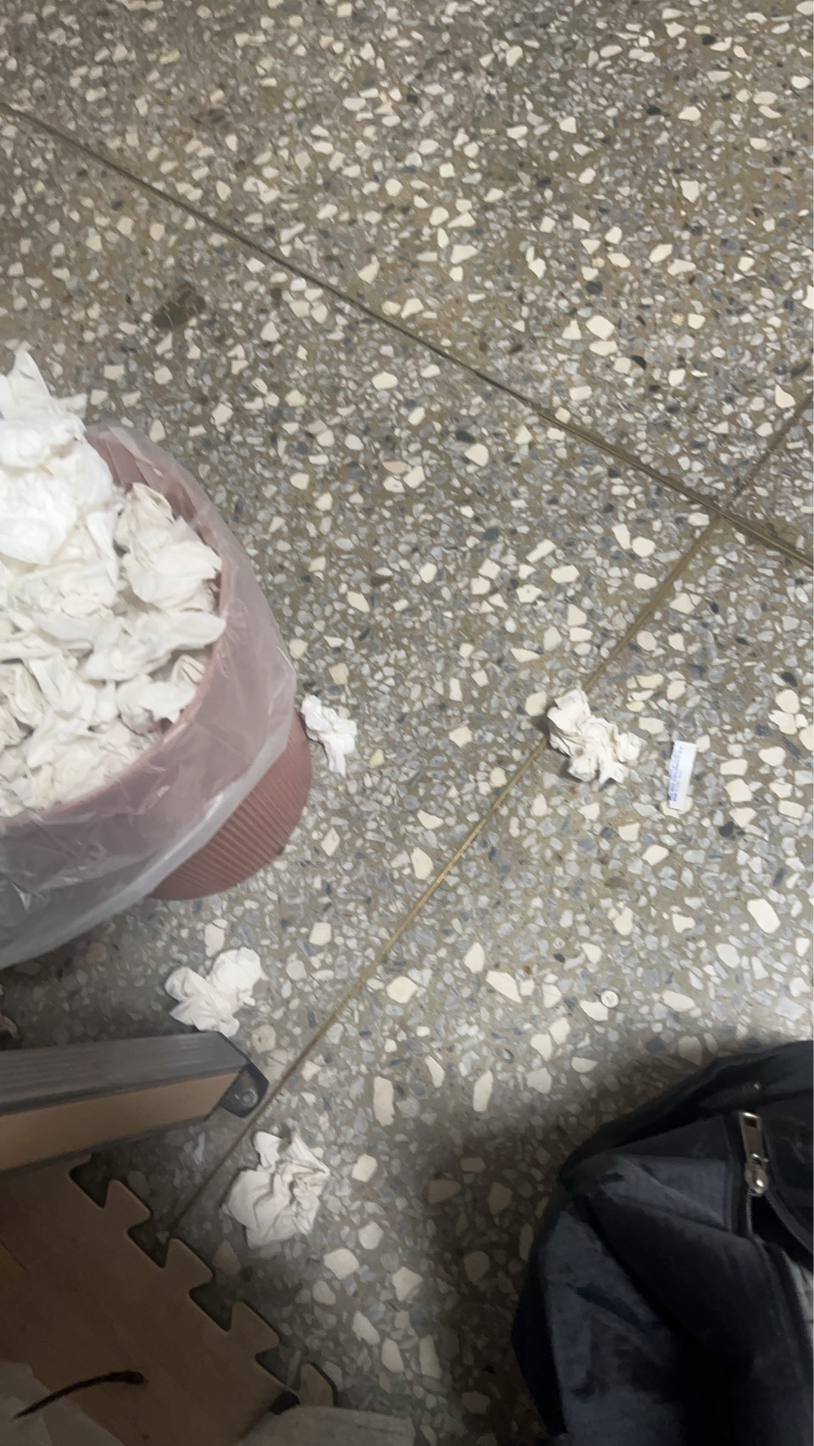General waste: (0, 333, 235, 856), (198, 1130, 393, 1240), (523, 658, 661, 805), (138, 941, 308, 1057), (280, 687, 376, 777)
